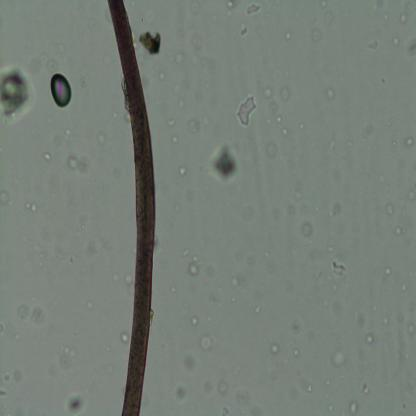Air bubble: (49, 70, 73, 112)
Background material: (0, 59, 42, 125), (204, 138, 245, 186), (66, 150, 96, 178), (235, 91, 258, 127), (15, 304, 44, 332), (138, 26, 164, 57), (59, 343, 77, 372), (326, 347, 346, 369), (199, 333, 220, 353), (66, 392, 86, 412), (274, 115, 292, 135), (277, 82, 292, 103), (188, 254, 200, 277), (244, 1, 262, 16), (329, 200, 344, 218), (173, 383, 188, 400), (322, 84, 337, 101), (117, 329, 131, 347), (405, 36, 416, 58), (62, 123, 74, 143), (332, 261, 348, 276), (299, 222, 314, 238), (185, 352, 197, 372), (0, 190, 13, 206), (188, 116, 199, 134), (43, 146, 53, 165), (240, 16, 249, 37), (290, 319, 302, 334), (349, 397, 359, 415), (127, 272, 134, 297), (267, 342, 279, 356), (266, 144, 278, 158), (23, 203, 39, 213), (224, 2, 240, 12), (176, 164, 188, 177), (405, 322, 416, 336), (405, 133, 415, 148), (264, 86, 274, 101), (383, 204, 395, 216), (368, 40, 380, 52), (230, 274, 240, 288), (399, 9, 408, 24), (216, 380, 228, 391), (382, 265, 394, 276), (180, 247, 192, 258), (363, 380, 371, 396), (312, 29, 321, 43), (382, 315, 392, 327), (394, 225, 404, 237), (284, 30, 294, 42), (111, 271, 119, 285), (176, 50, 184, 64), (364, 334, 374, 345), (407, 189, 416, 201), (168, 284, 178, 294), (85, 300, 94, 311), (170, 136, 179, 146), (392, 35, 400, 46), (298, 120, 306, 131), (98, 132, 105, 144), (166, 119, 178, 126), (254, 304, 262, 314), (158, 72, 166, 81), (192, 315, 198, 326), (292, 347, 298, 358), (306, 383, 312, 394), (332, 282, 338, 291)
Microfibre: (106, 0, 158, 414)
